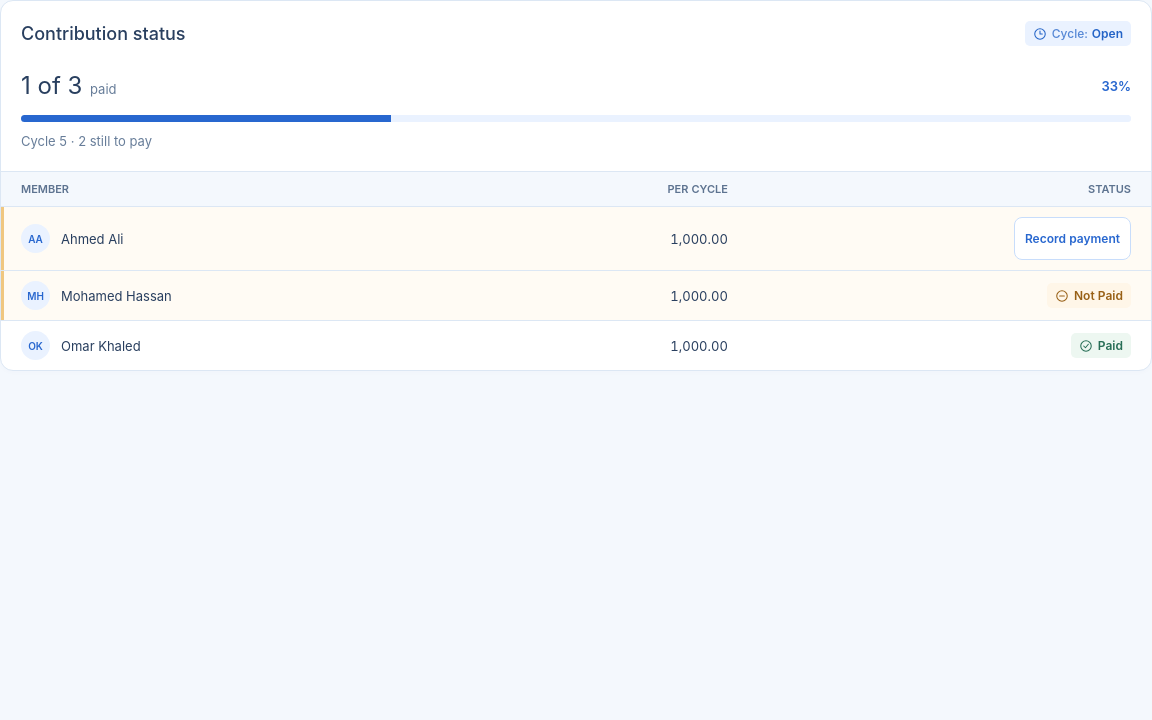
Scenario: Record payment › cancel closes the confirmation without posting
The image size is (1152, 720).
Click the button with aria-label "Record payment for Ahmed Ali". click: (1072, 238)
box: [1014,217,1131,260]
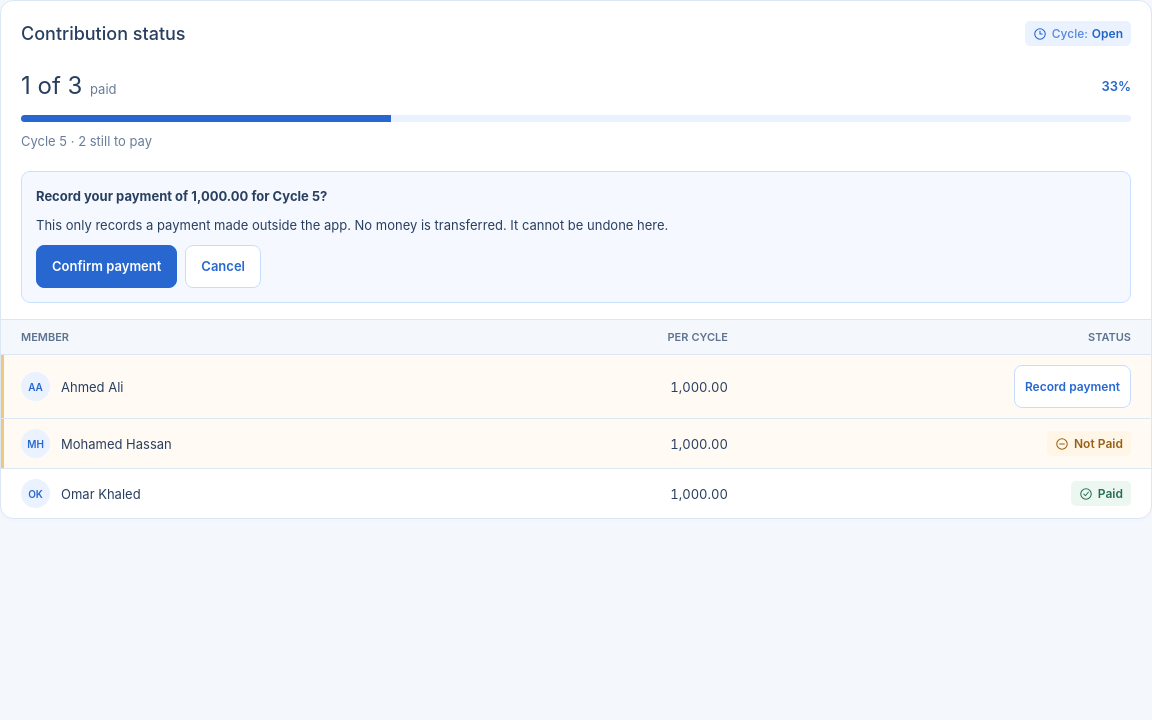
Click the button "Cancel". click: (223, 267)
box: [185,245,261,288]
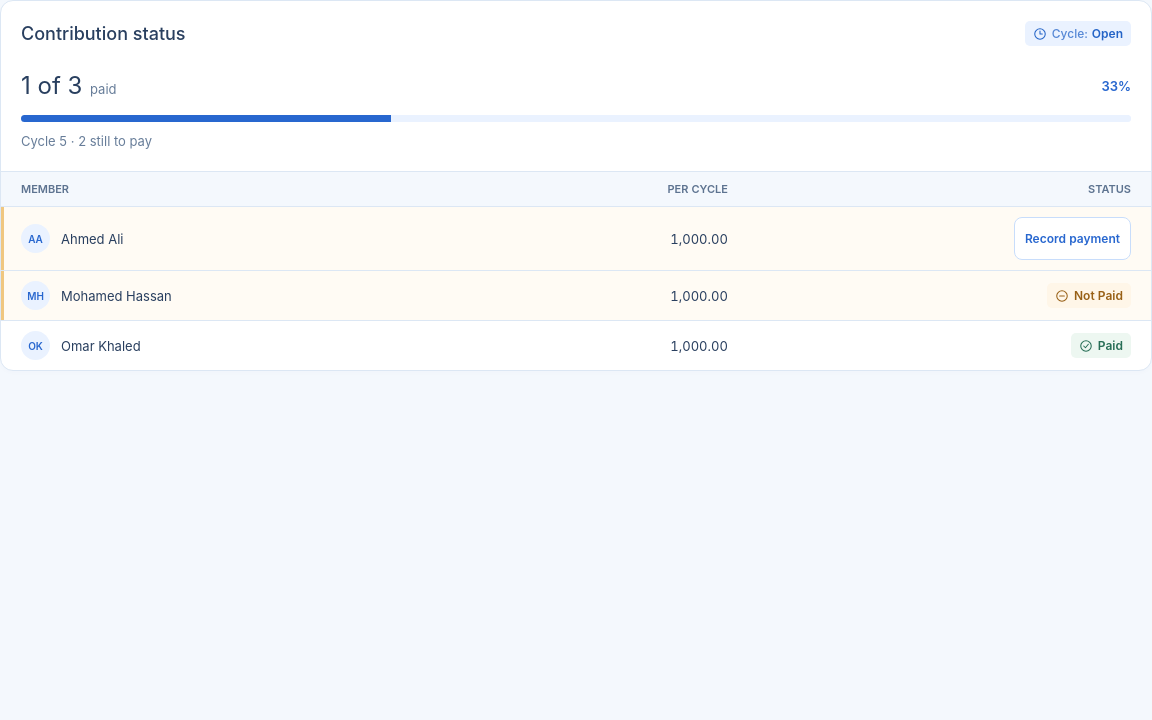
Expected: the dialog is gone
